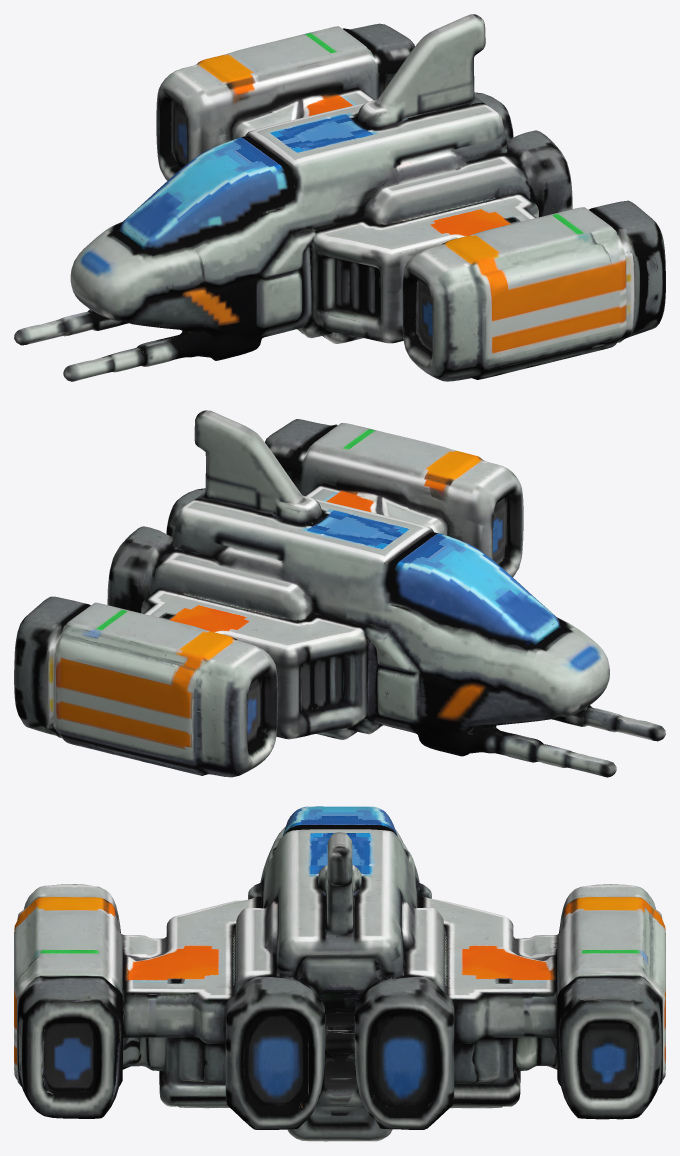
The model's file is Skimmer_MK_1.glb.
3 renders of one model, top to bottom at view 1: azimuth 30°, elevation 25°; view 2: azimuth 150°, elevation 25°; view 3: azimuth 270°, elevation 25°, orthographic. The views are drawn at different scales.
Visible parts, largest first — view 1: Mesh_0; view 2: Mesh_0; view 3: Mesh_0.
Part boxes in pixels (bbox=[...]): Mesh_0: bbox=[14, 14, 665, 381]; Mesh_0: bbox=[14, 410, 665, 777]; Mesh_0: bbox=[14, 806, 665, 1141].
Bounding box in the file's own units: 1.8 × 0.9692 × 1.91.
1 material, 1 textured.
